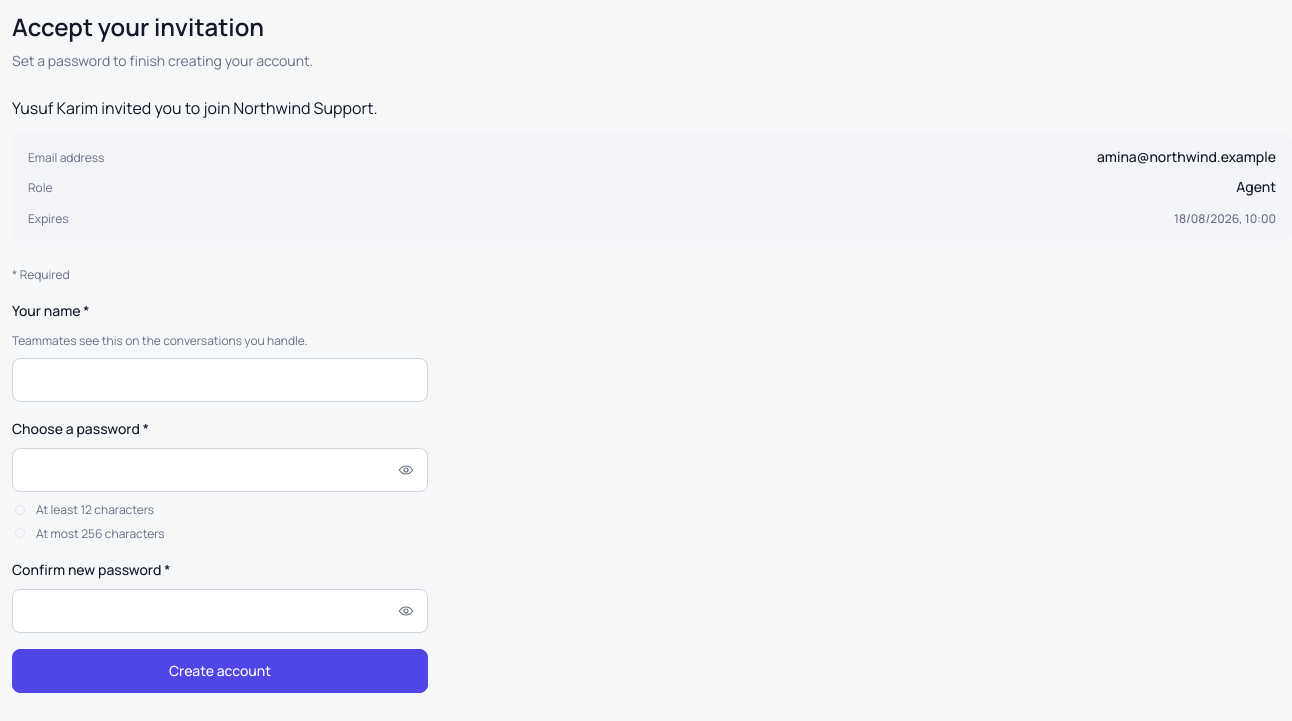
Test: InviteAcceptSection › points an already-registered address at sign-in instead of failing generically
The image size is (1292, 721).
Expected: the button "Create account" is shown, [12, 649, 428, 693]
Step 1. Type "Amina Haddad" into the field labelled "Your name *" → (220, 380), box [12, 358, 428, 402]
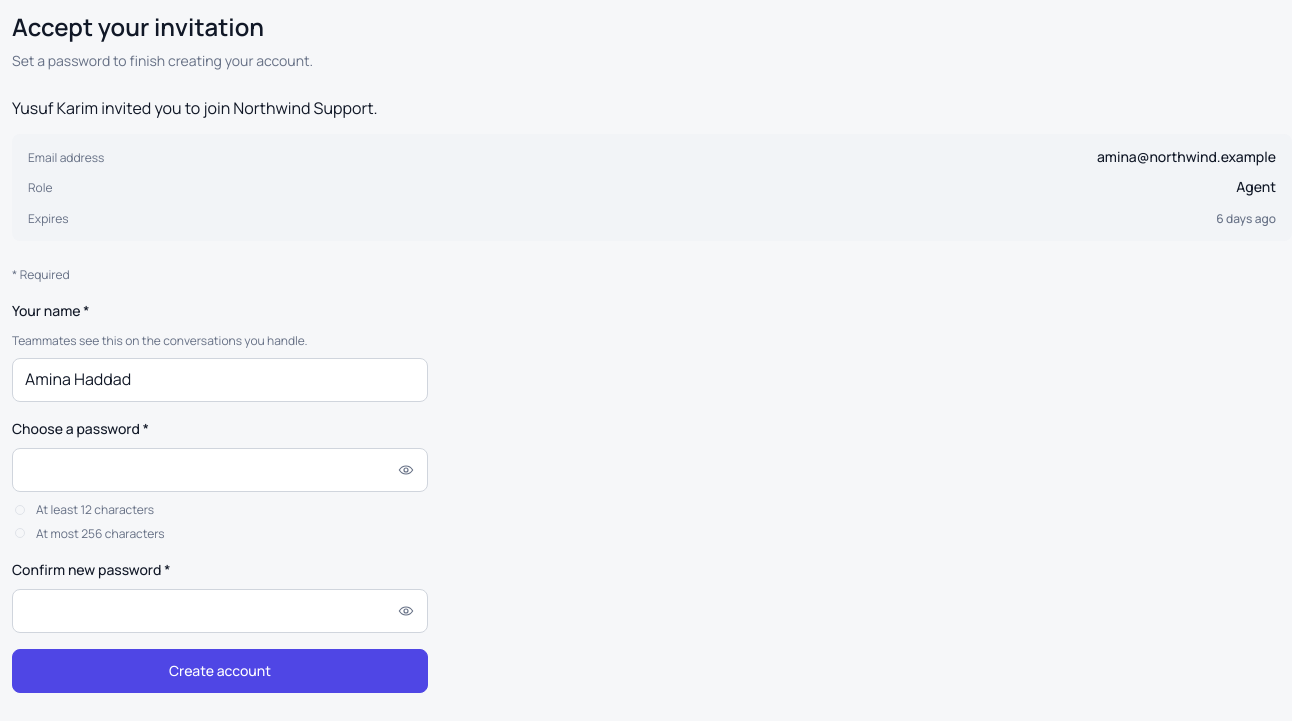
Step 2. Type "a-perfectly-fine-passphrase" into the password field labelled "Choose a password *" → (220, 470), box [12, 448, 428, 492]
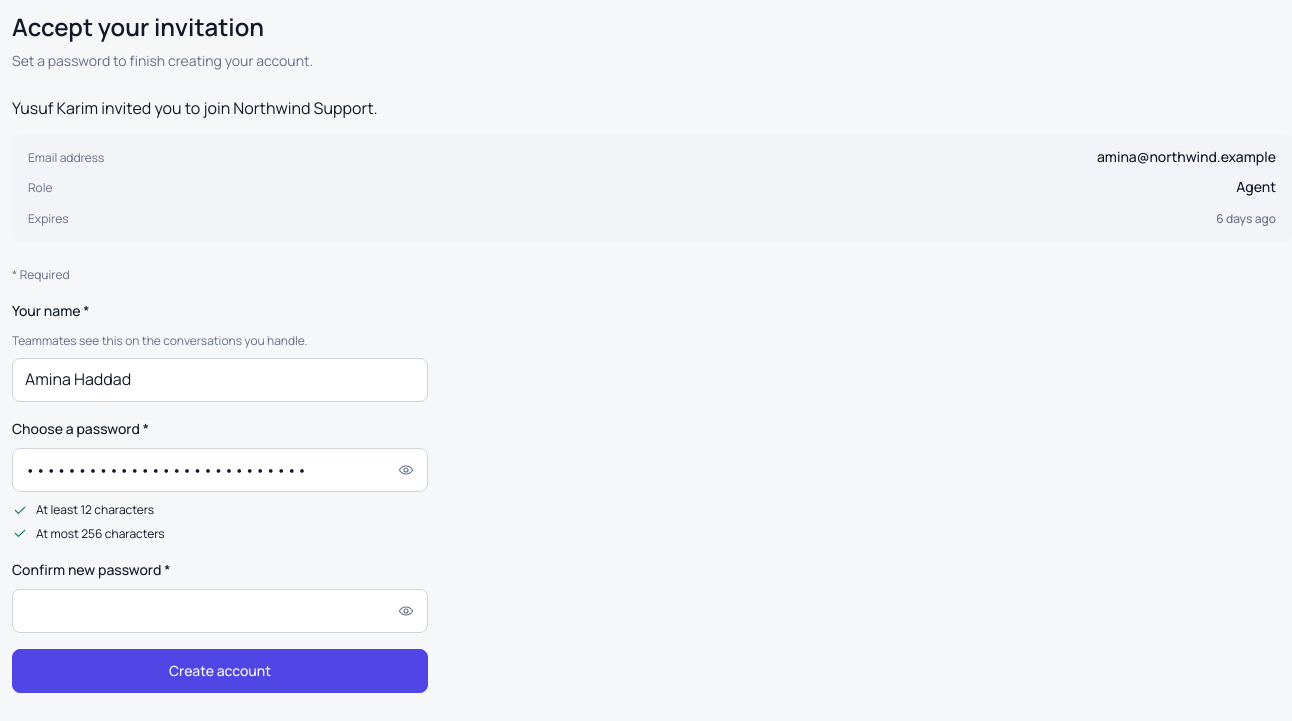
Step 3. Type "a-perfectly-fine-passphrase" into the password field labelled "Confirm new password *" → (220, 611), box [12, 589, 428, 633]
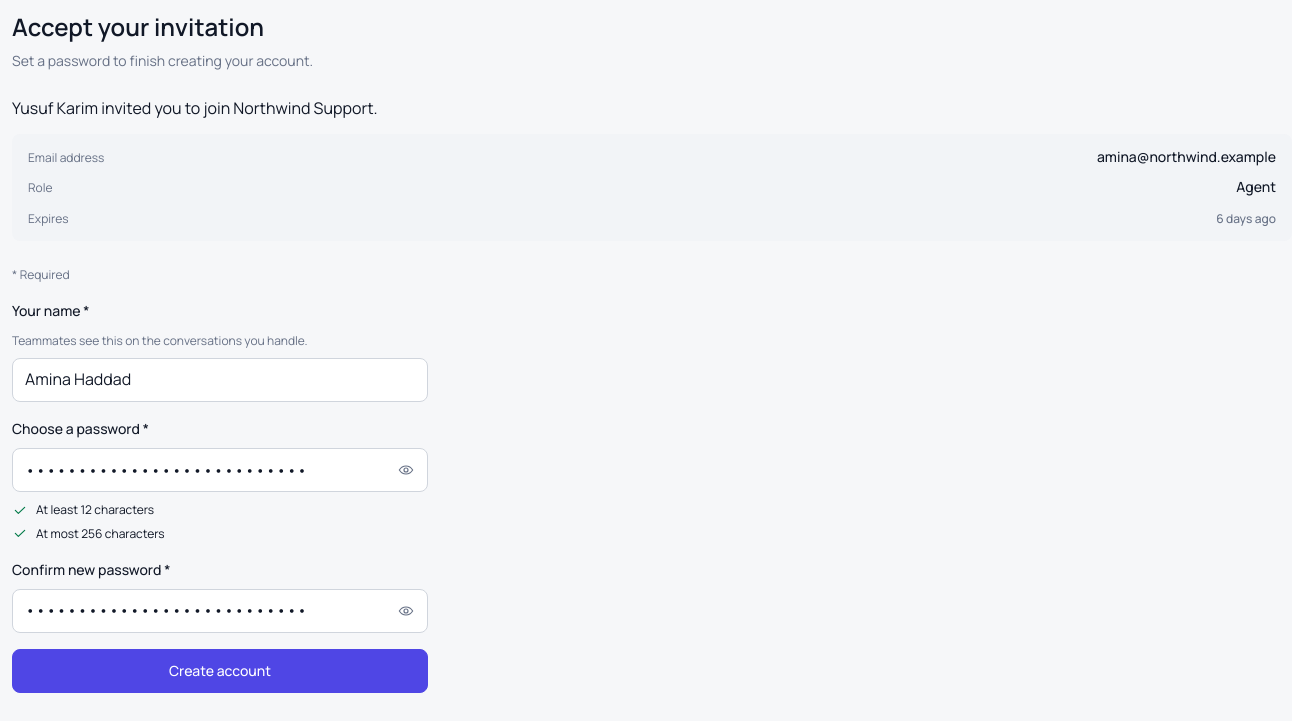
Step 4. Click the button "Create account" → (220, 671), box [12, 649, 428, 693]
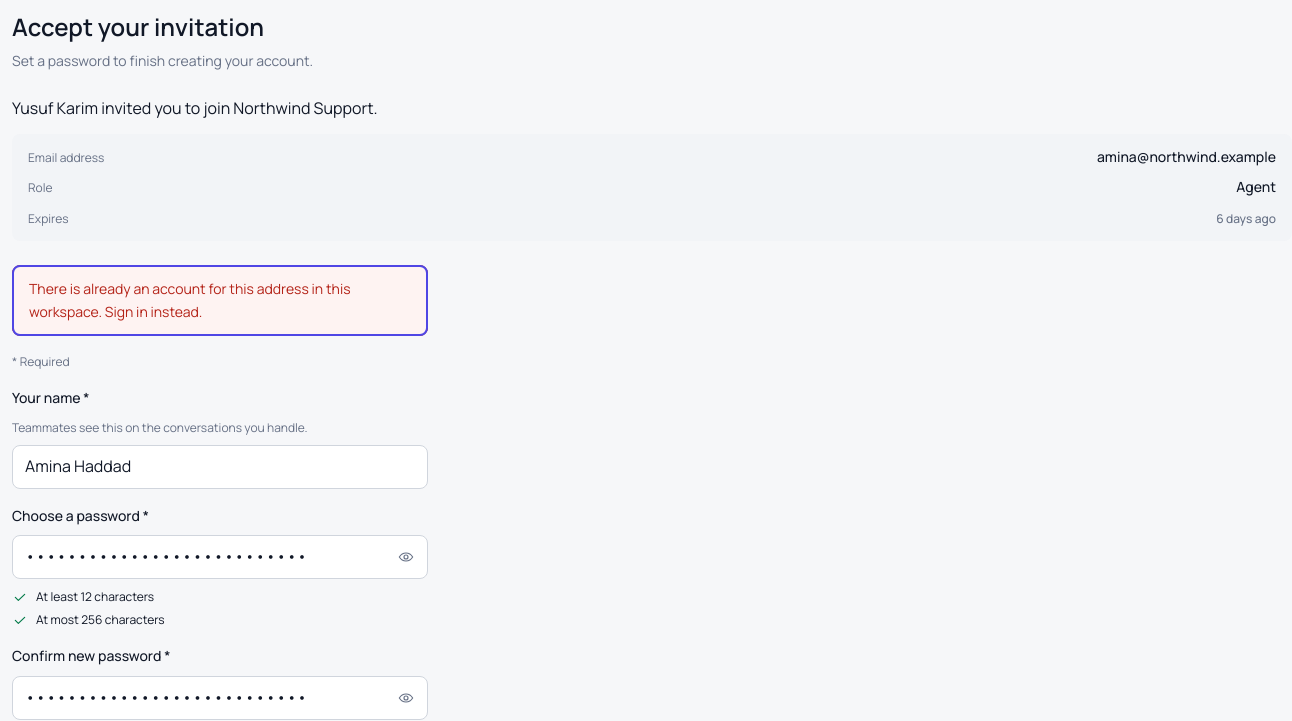
Expected: the message reads "There is already an account for this address in this workspace. Sign in instead.", [29, 279, 350, 321]
